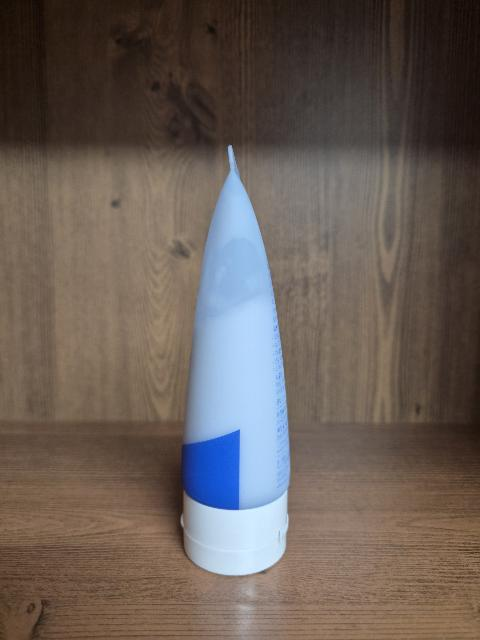handcream: (181, 145, 290, 576)
